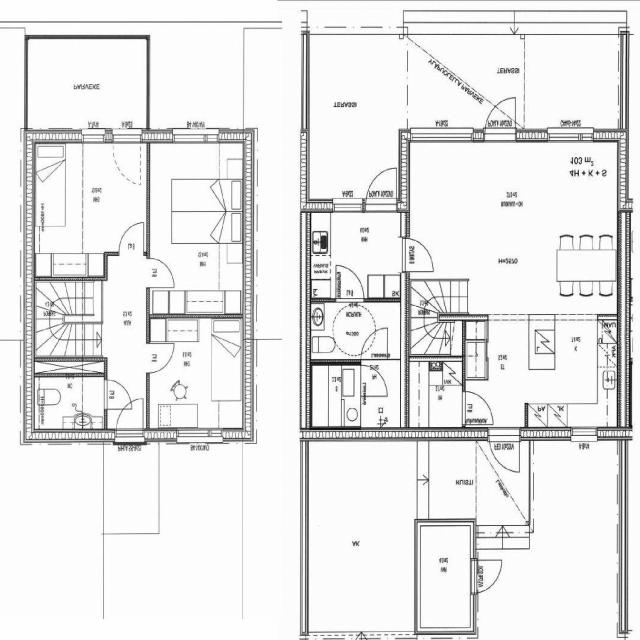door: (485, 92, 516, 142), (489, 427, 520, 476), (367, 163, 397, 213), (114, 130, 141, 176), (401, 238, 438, 271), (118, 396, 144, 441), (336, 264, 364, 302), (471, 560, 504, 592), (462, 391, 493, 424), (362, 329, 388, 365), (358, 366, 386, 396), (147, 343, 175, 373), (147, 258, 175, 287), (104, 380, 132, 409), (120, 222, 144, 255)
